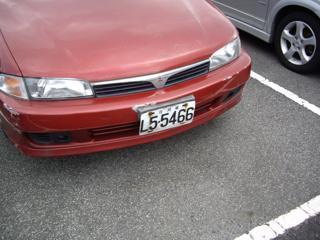plate: (137, 104, 193, 134)
